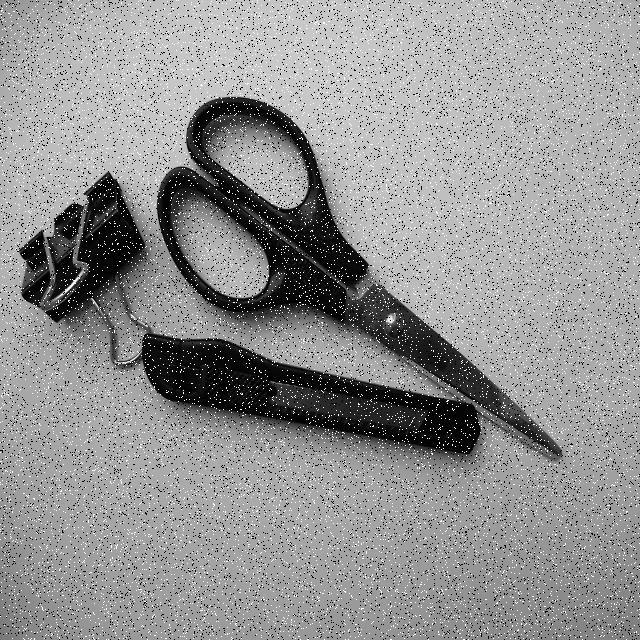scissors: (148, 75, 567, 489)
